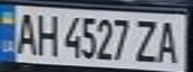2: (93, 15, 115, 61)
4: (60, 12, 84, 59)
5: (78, 13, 100, 60)
7: (112, 16, 133, 62)
A: (154, 17, 184, 65), (12, 9, 39, 56)
H: (33, 10, 60, 57)
Z: (133, 16, 160, 64)
